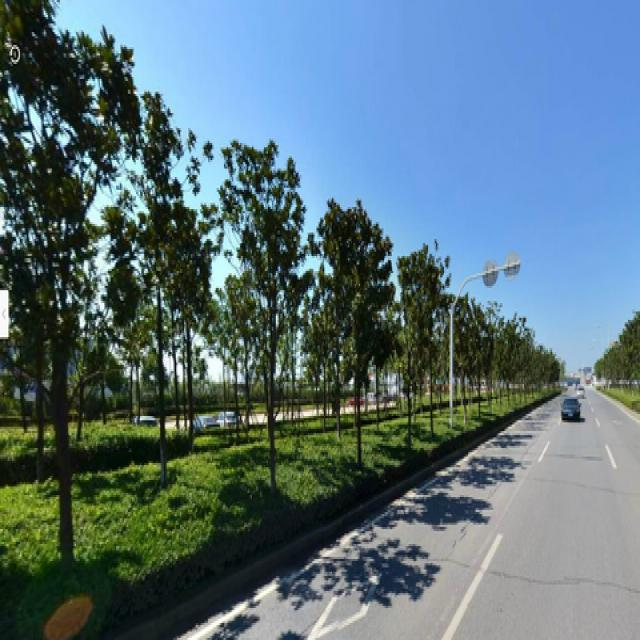magn: (20, 13, 136, 540), (234, 152, 306, 497), (155, 188, 213, 450), (336, 198, 384, 476)
